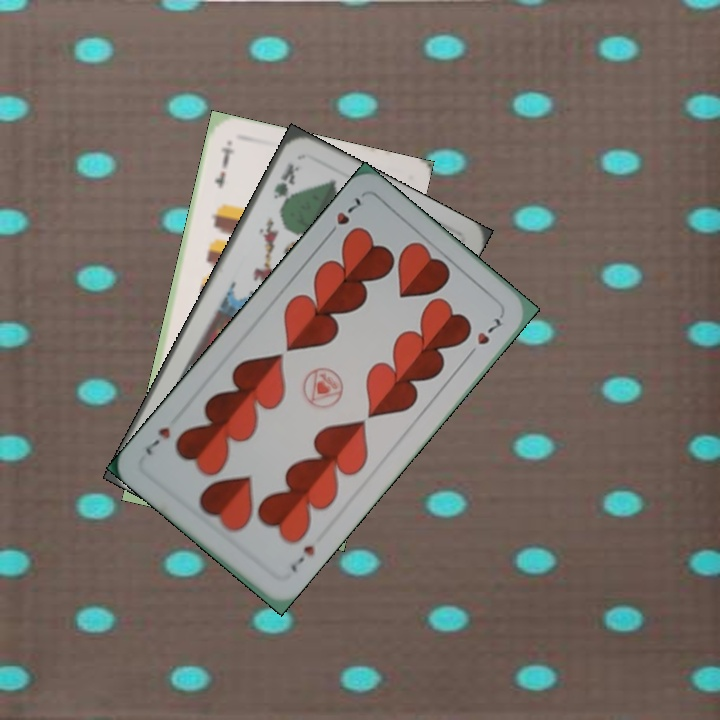E7: (210, 143, 237, 191)
GK: (269, 159, 302, 213)
H7: (322, 192, 366, 241), (286, 540, 318, 575)
